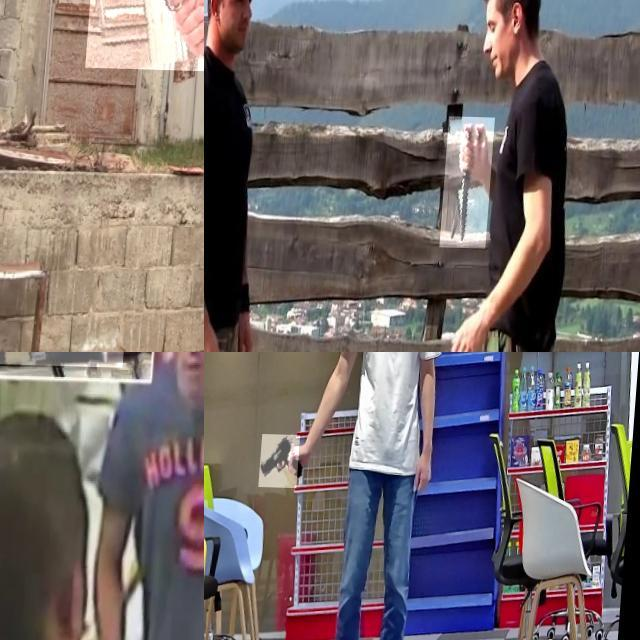-: (446, 114, 498, 245)
gun-knife-thesis - v11 Yolov5 augmented: (89, 0, 204, 77), (0, 352, 135, 417), (263, 432, 304, 486)
